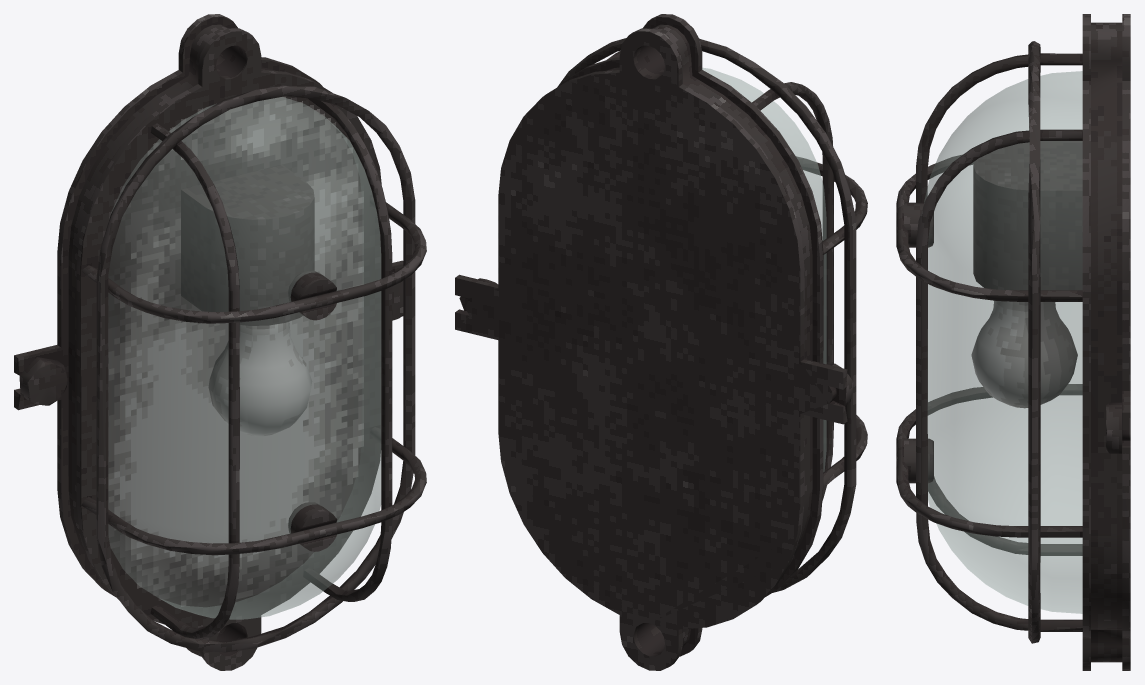
The model's file is industrial_wall_lamp.glb.
3 views of the same model, side by side, from view 1: azimuth 30°, elevation 25°; view 2: azimuth 150°, elevation 25°; view 3: azimuth 270°, elevation 25° (orthographic).
Visible parts, largest first — view 1: body, glass; view 2: body, glass; view 3: body, glass.
Boxes of the visible parts, left/top/right/bottom form: body: left=14, top=14, right=426, bottom=670; glass: left=108, top=97, right=381, bottom=619; body: left=455, top=14, right=867, bottom=670; glass: left=702, top=68, right=826, bottom=471; body: left=896, top=14, right=1130, bottom=670; glass: left=924, top=71, right=1082, bottom=613.
Size of the model in its own units: 0.2735 by 0.4299 by 0.1404.
Materials: 2 (2 with a texture image).
